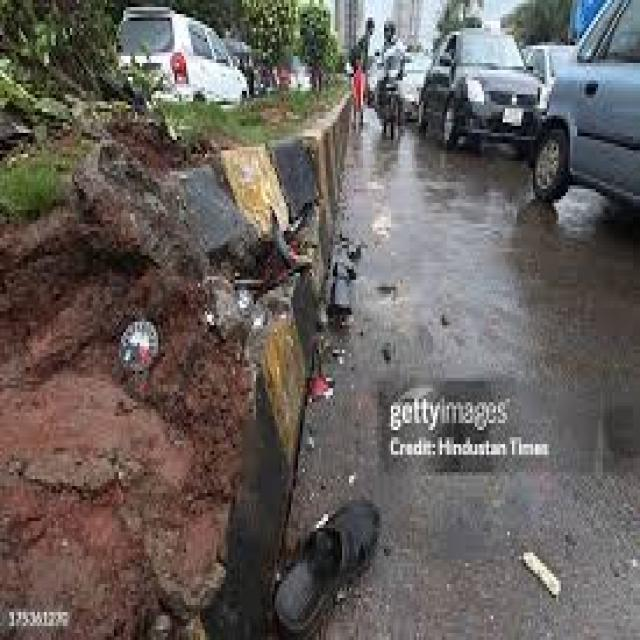motorcycle ahead at: (375, 13, 411, 148)
